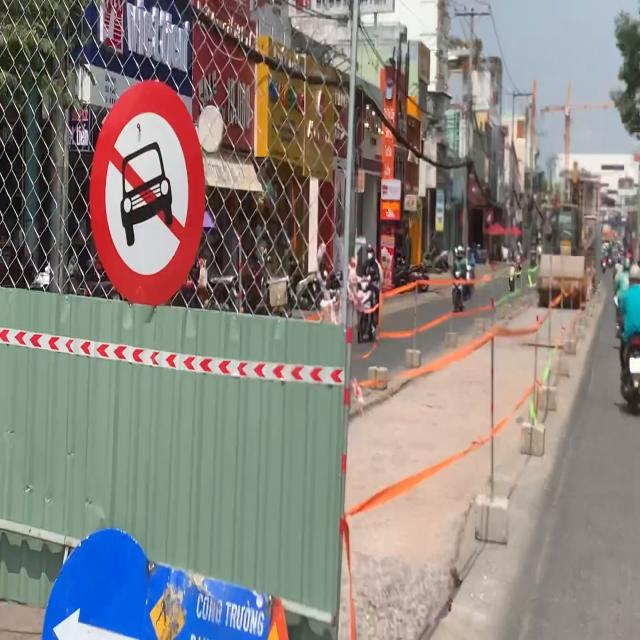Cam con lai: (88, 78, 207, 310)
